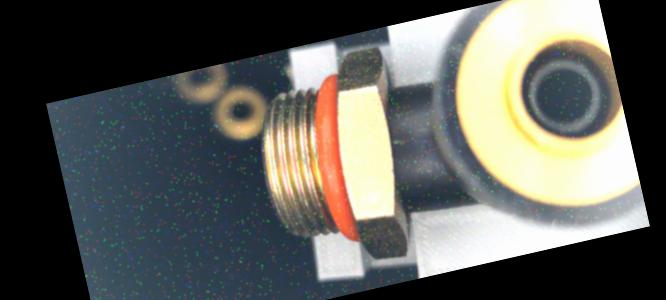white mark: (387, 134, 403, 146)
